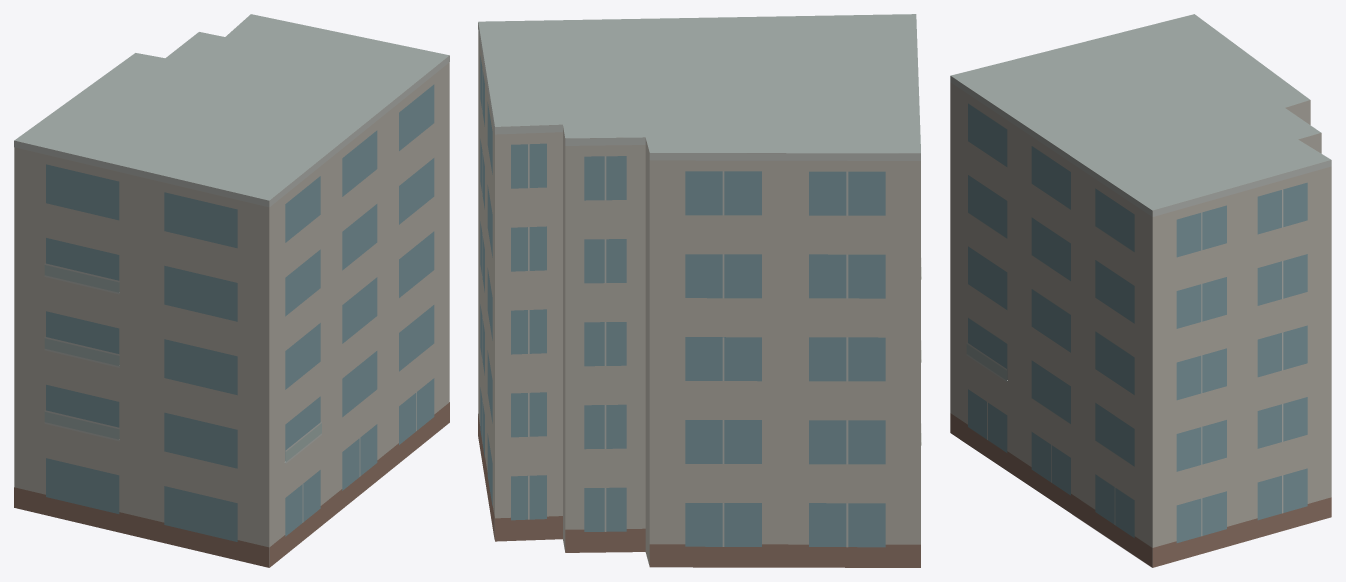
The model's file is survey-upis-32758897.glb.
3 renders of one model, left to right at view 1: azimuth 30°, elevation 25°; view 2: azimuth 150°, elevation 25°; view 3: azimuth 270°, elevation 25°, orthographic. The views are drawn at different scales.
Parts seen in each view (by area): view 1: survey-upis-32758897.tmp; view 2: survey-upis-32758897.tmp; view 3: survey-upis-32758897.tmp.
Part boxes in pixels (<box>): survey-upis-32758897.tmp: <box>14,14,449,567</box>; survey-upis-32758897.tmp: <box>478,14,921,567</box>; survey-upis-32758897.tmp: <box>950,14,1331,567</box>.
Bounding box in the file's own units: 15.77 × 13.36 × 12.93.
